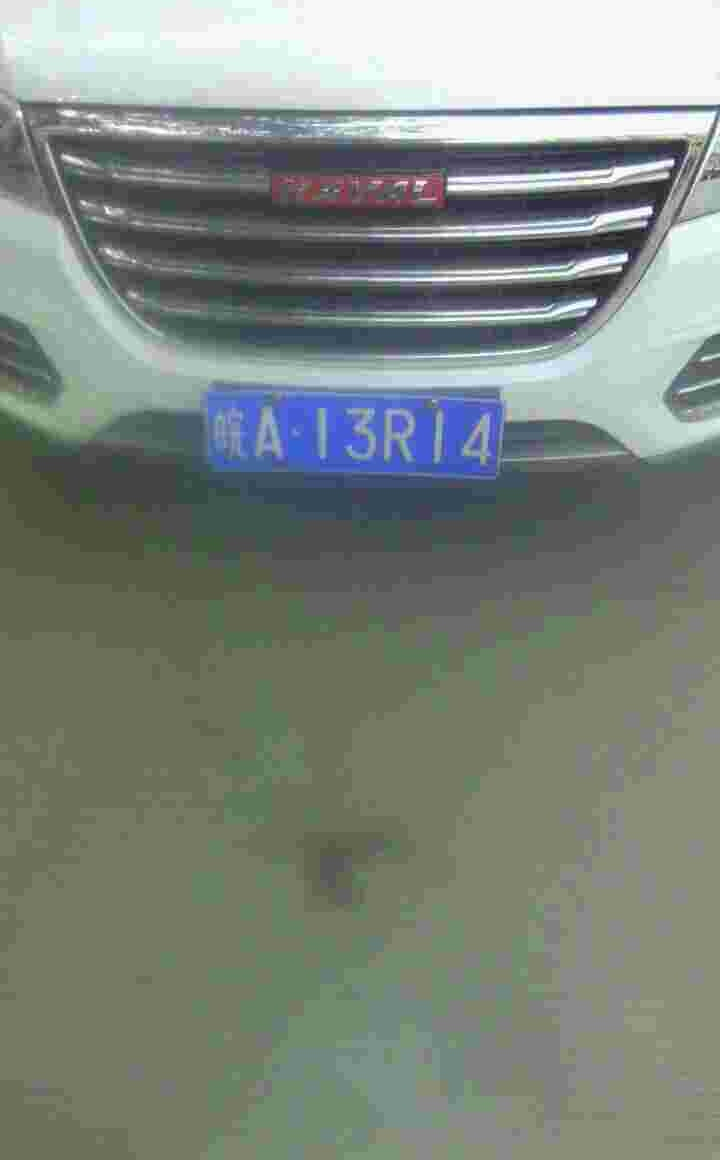license_plate: (201, 388, 502, 484)
